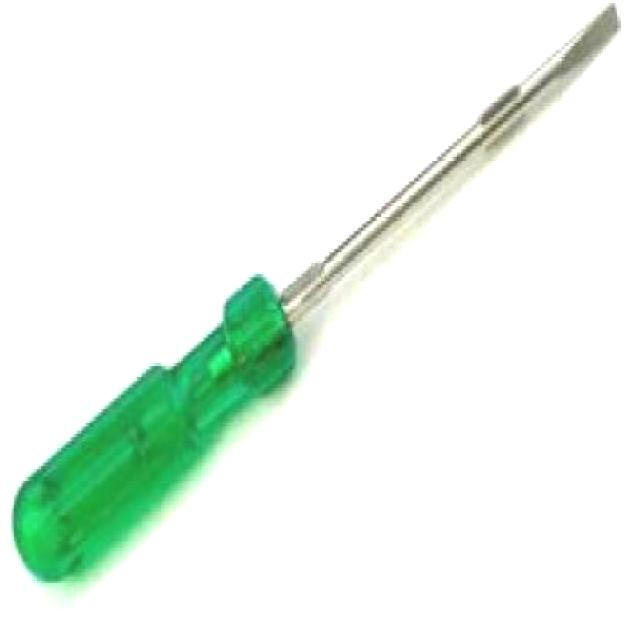screwdriver: (12, 0, 620, 591)
